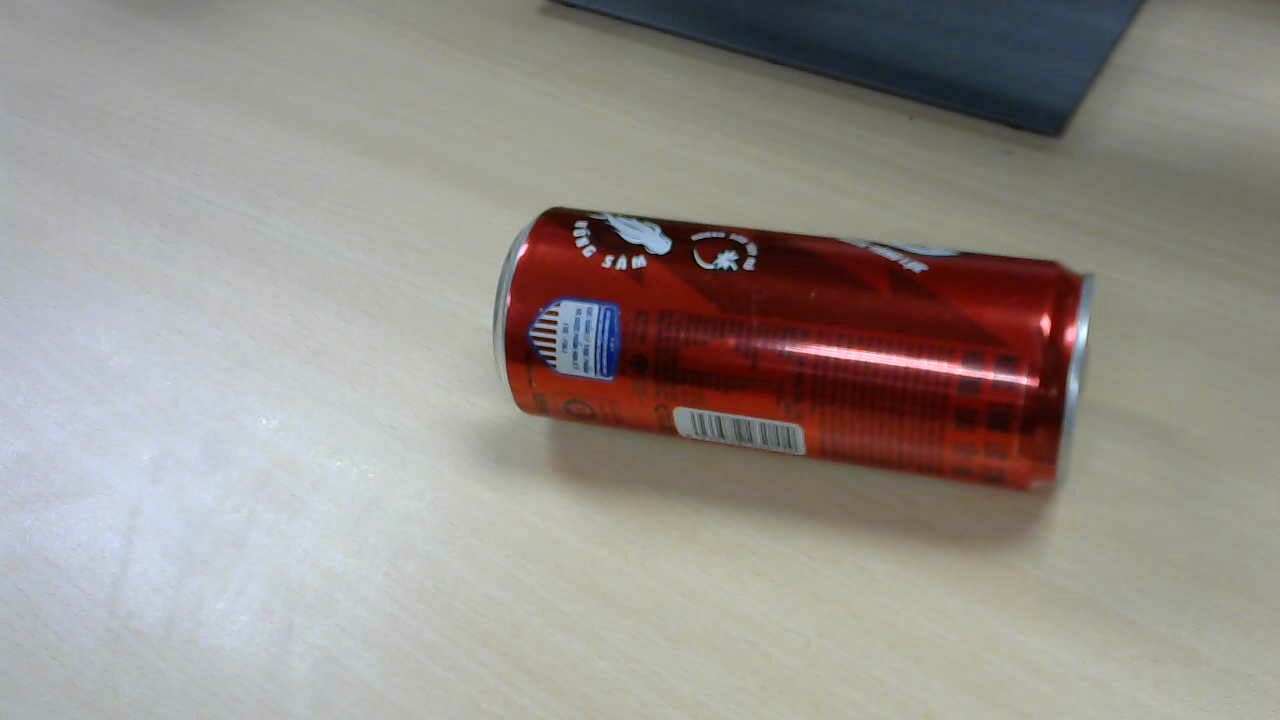Sting: (499, 210, 1094, 494)
